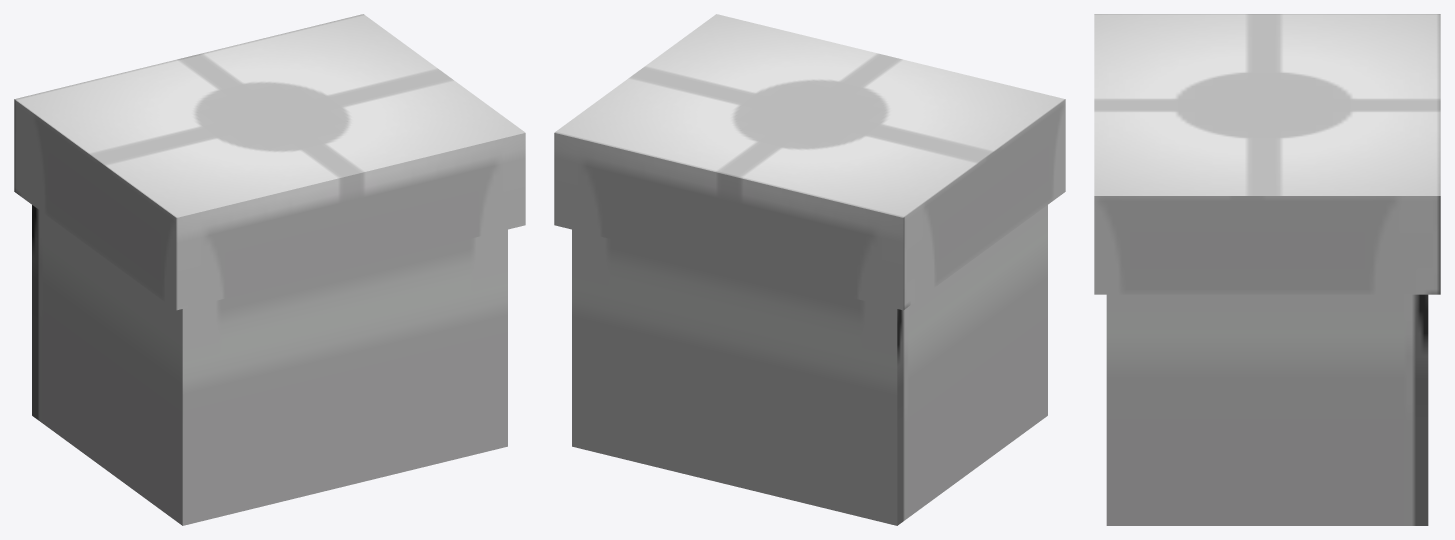
Rendered from Building_Altar_Small.obj.
3 renders of one model, left to right at view 1: azimuth 30°, elevation 25°; view 2: azimuth 150°, elevation 25°; view 3: azimuth 270°, elevation 25°, orthographic. The views are drawn at different scales.
Visible parts, largest first — view 1: Body; view 2: Body; view 3: Body.
Boxes of the visible parts, x1,y1,x2,y2 form: Body: [14, 14, 525, 525]; Body: [554, 14, 1065, 525]; Body: [1094, 14, 1440, 525].
Bounding box in the file's own units: 0.87 × 0.75 × 0.7.
Materials: 1 (1 with a texture image).
